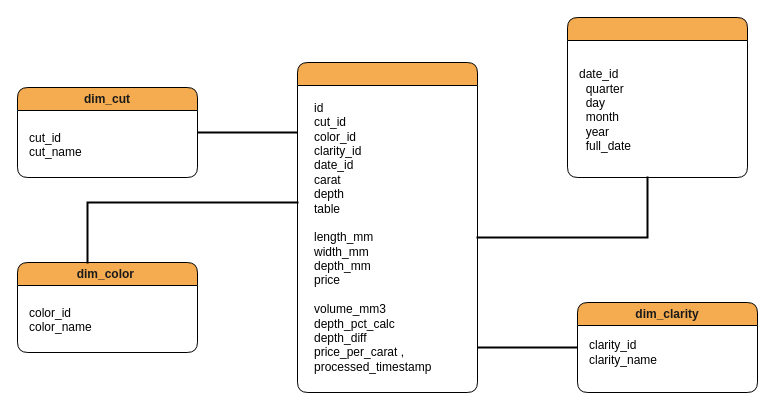
This 775x410 diagram has some shape labels left out. The shapes that lost their labels are listed below. From the top down, each one's box as (x1, y1, x2, y2) in pixels, then its label:
(566, 16, 748, 178): Dim_Date
(296, 62, 478, 392): fact_diamonds
